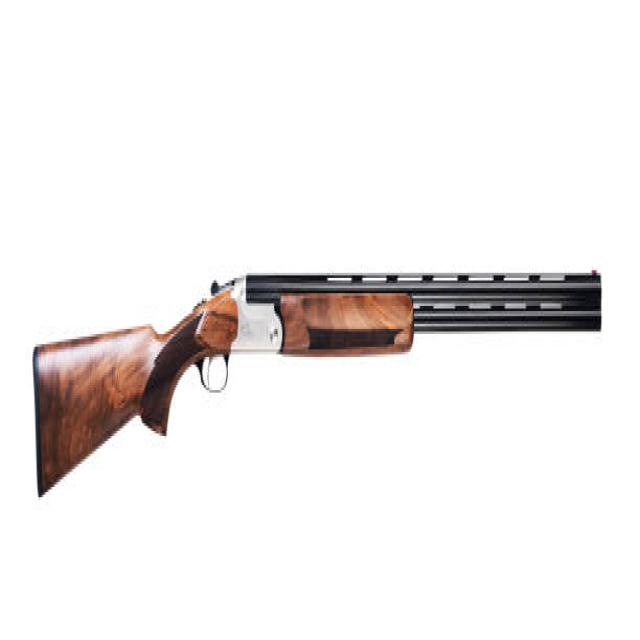rifle: (27, 249, 606, 507)
